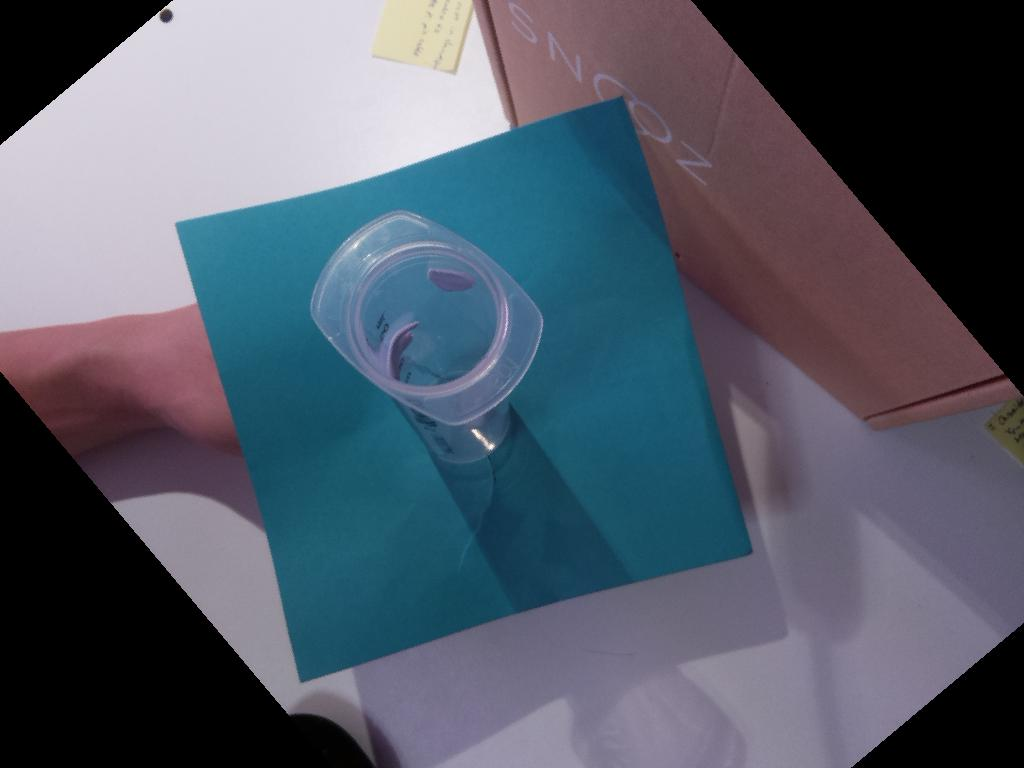dirty: (311, 211, 543, 427)
